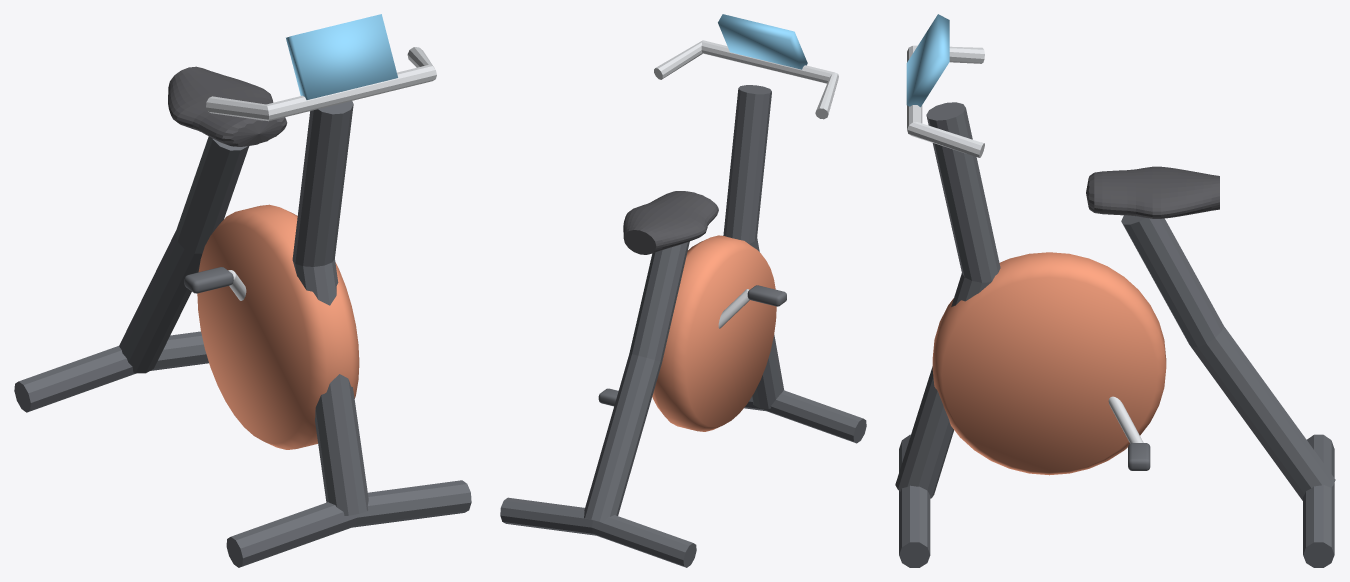
Rendered from gym_bike.glb.
The picture shows the model from 3 angles, left to right: view 1: azimuth 30°, elevation 25°; view 2: azimuth 150°, elevation 25°; view 3: azimuth 270°, elevation 25°; orthographic projection. The views are drawn at different scales.
Parts seen in each view (by area): view 1: gym_bike; view 2: gym_bike; view 3: gym_bike.
Boxes of the visible parts, x1=… form: gym_bike: x1=14, y1=14, x2=471, y2=567; gym_bike: x1=500, y1=14, x2=866, y2=567; gym_bike: x1=895, y1=14, x2=1335, y2=567.
Size of the model in its own units: 0.5671 by 1.19 by 0.9809.
